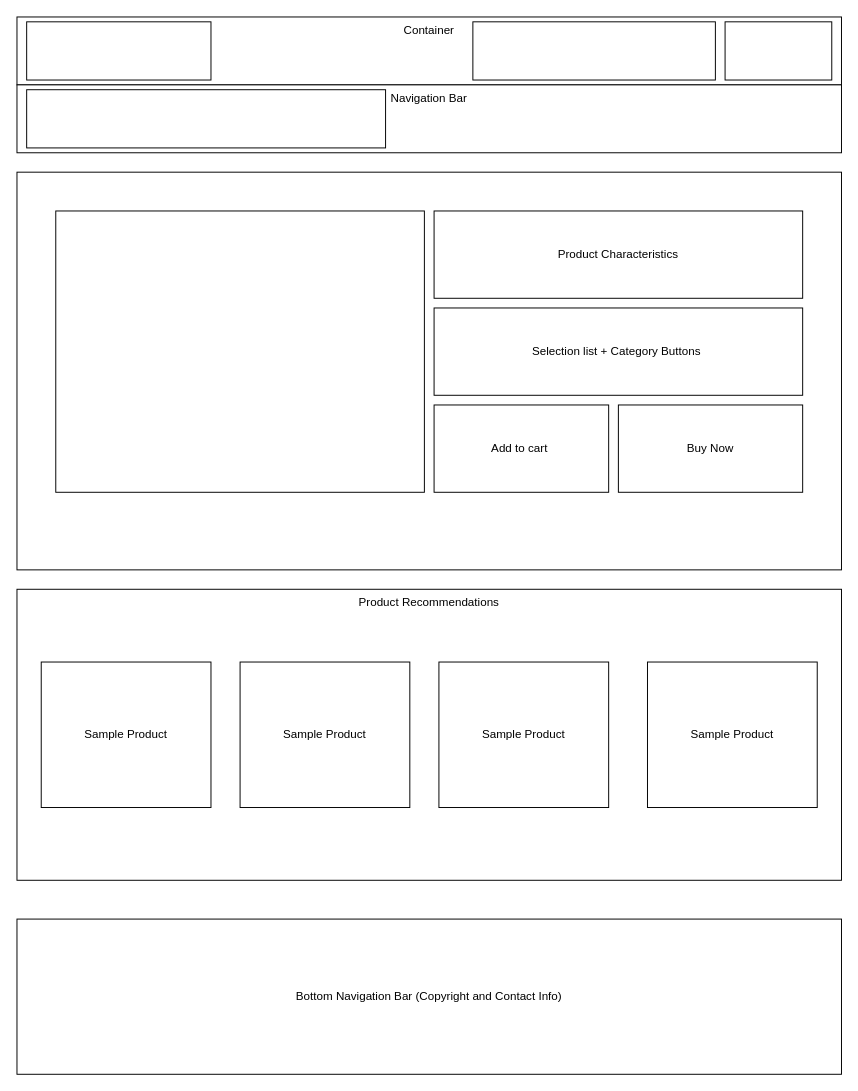
The diagram is 858 pixels wide and 1091 high, and some of its shapes have lost their labels. Each missing label, with the centre of its shape:
"Cart Button" goes at point (778, 50).
"Logo & Name" goes at point (118, 50).
"Navigation Buttons" goes at point (206, 118).
"Product" goes at point (239, 351).
"Search Bar + Button" goes at point (593, 50).
